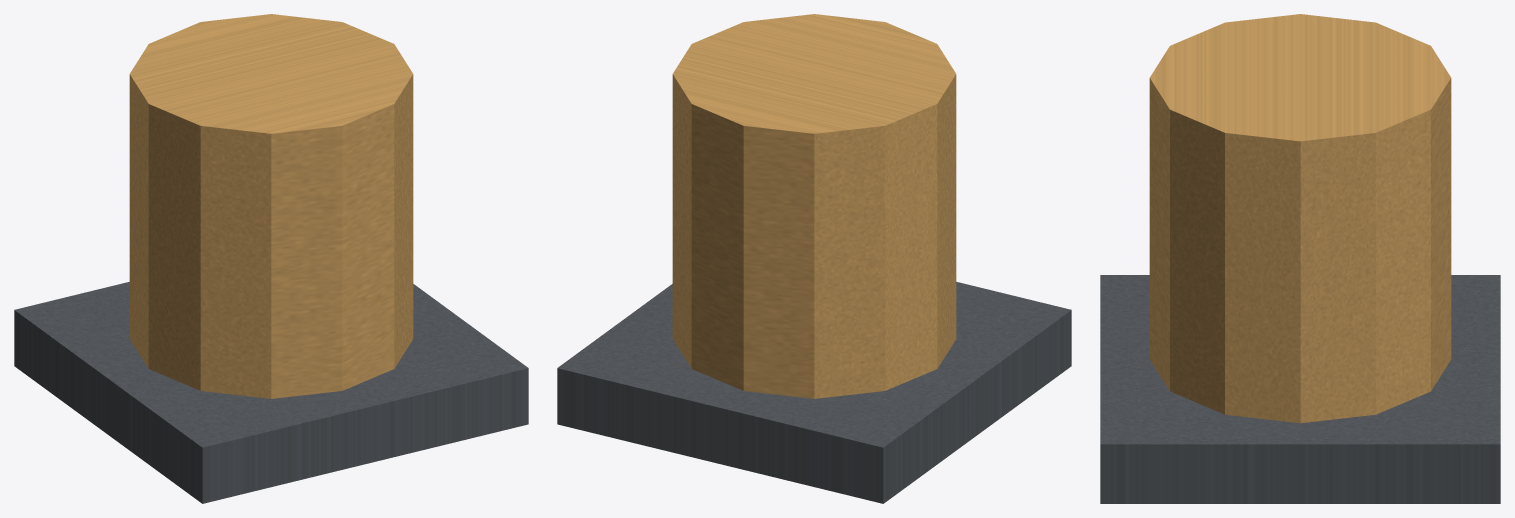
Rendered from construction_cone_lod1.glb.
The picture shows the model from 3 angles, left to right: view 1: azimuth 30°, elevation 25°; view 2: azimuth 150°, elevation 25°; view 3: azimuth 270°, elevation 25°; orthographic projection. The views are drawn at different scales.
Parts seen in each view (by area): view 1: world; view 2: world; view 3: world.
Part boxes in pixels (x1=…): world: x1=14, y1=14, x2=528, y2=503; world: x1=557, y1=14, x2=1071, y2=503; world: x1=1100, y1=14, x2=1500, y2=503.
Size of the model in its own units: 0.85 by 0.8 by 0.85.
3 materials, 3 textured.
